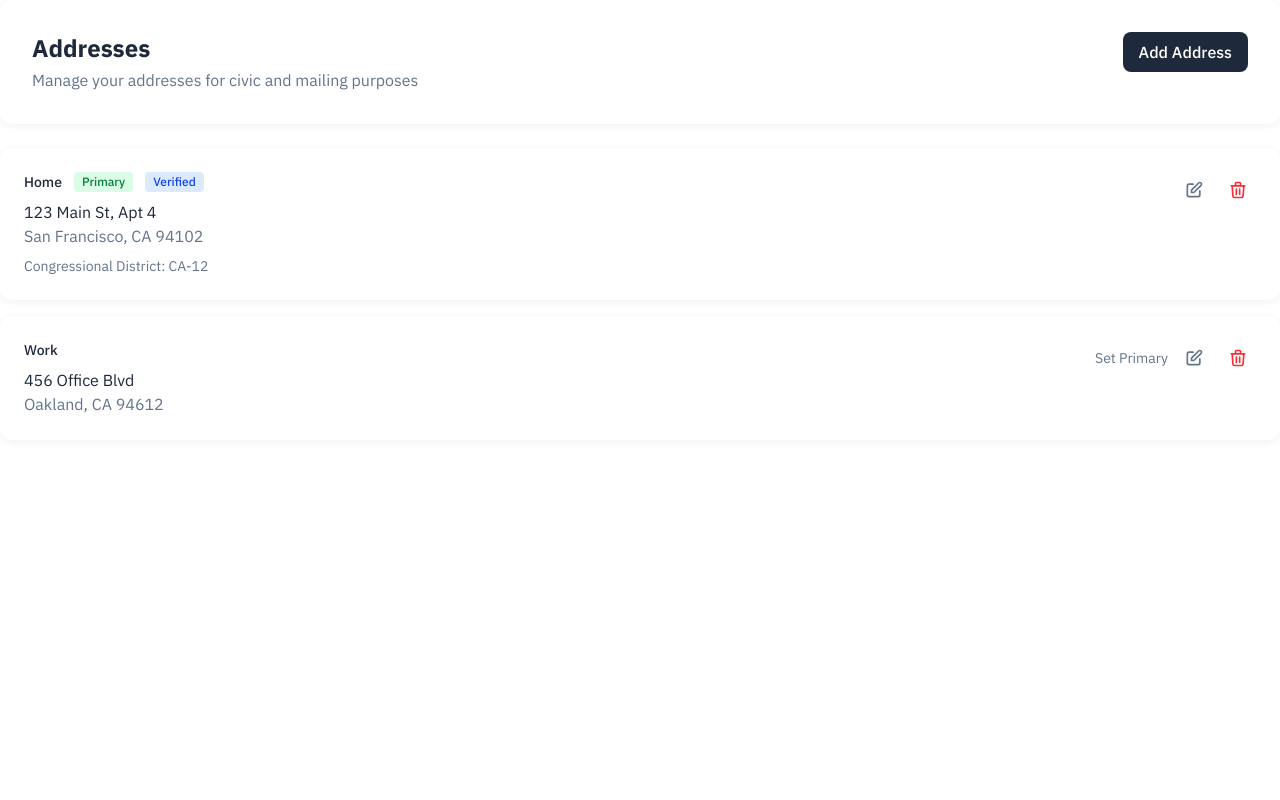
Test: AddressesPage › add address form › should show form when Add Address is clicked
Step 1. Click the button "Add Address" → coordinates (1185, 52), box x1=1123 y1=32 x2=1248 y2=72
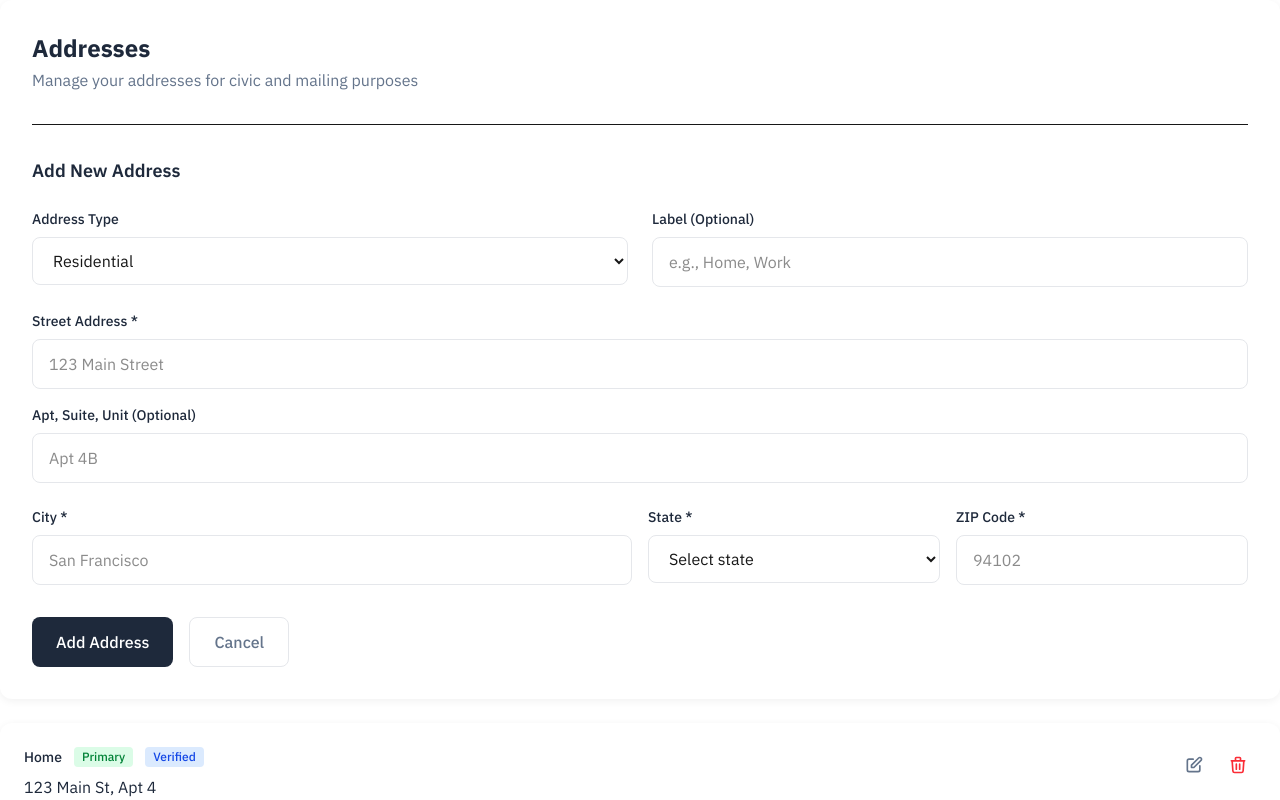
Expected: the heading "Add New Address" is shown, x1=32 y1=159 x2=180 y2=182
Expected: the text "Street Address *" is shown, x1=32 y1=312 x2=138 y2=330
Expected: the text "City *" is shown, x1=32 y1=508 x2=67 y2=526
